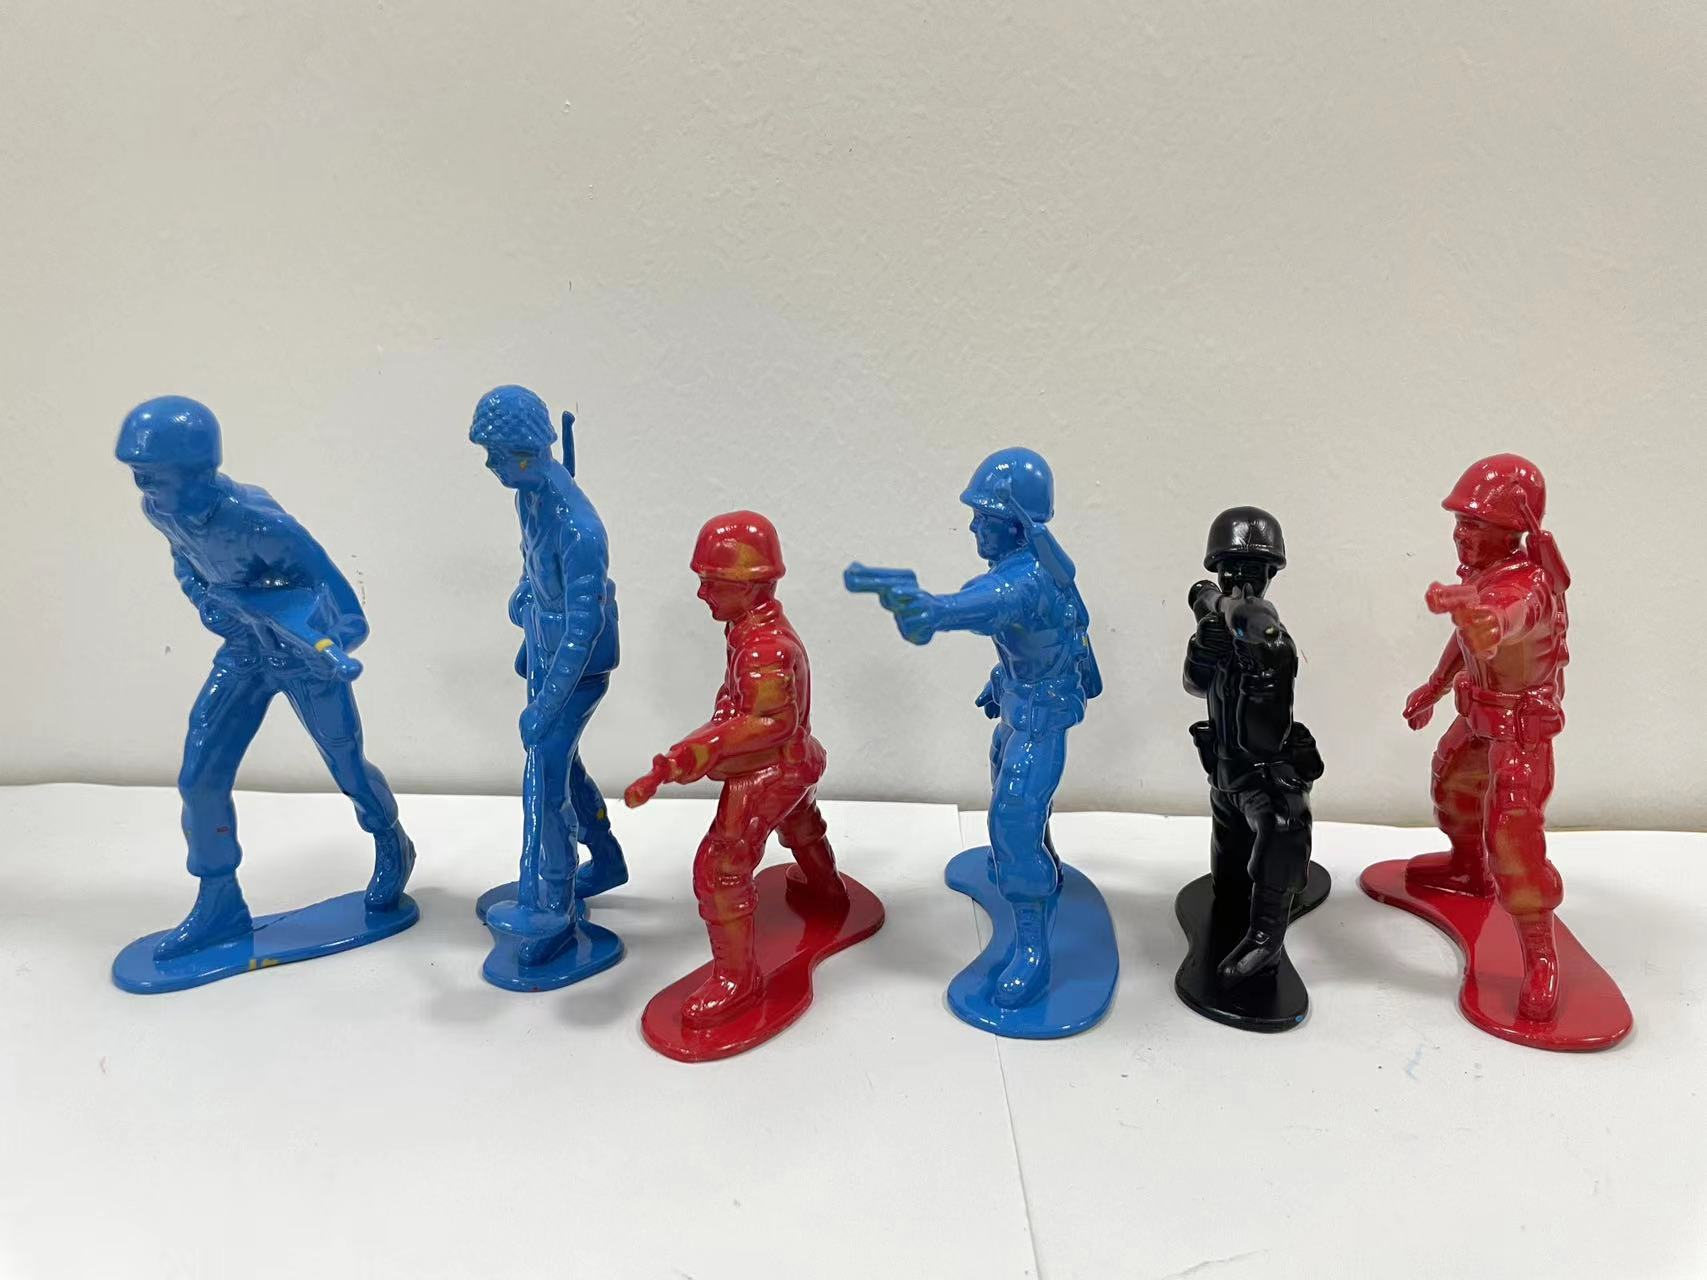black: (1169, 479, 1349, 1065)
blue: (65, 370, 409, 1038), (856, 406, 1128, 1107), (423, 350, 642, 1026)
red: (1364, 401, 1634, 1103), (649, 479, 880, 1089)
